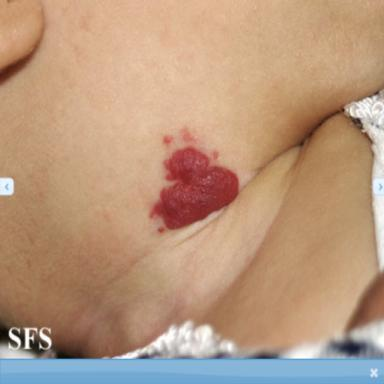Hemangiome: (151, 148, 239, 229)
